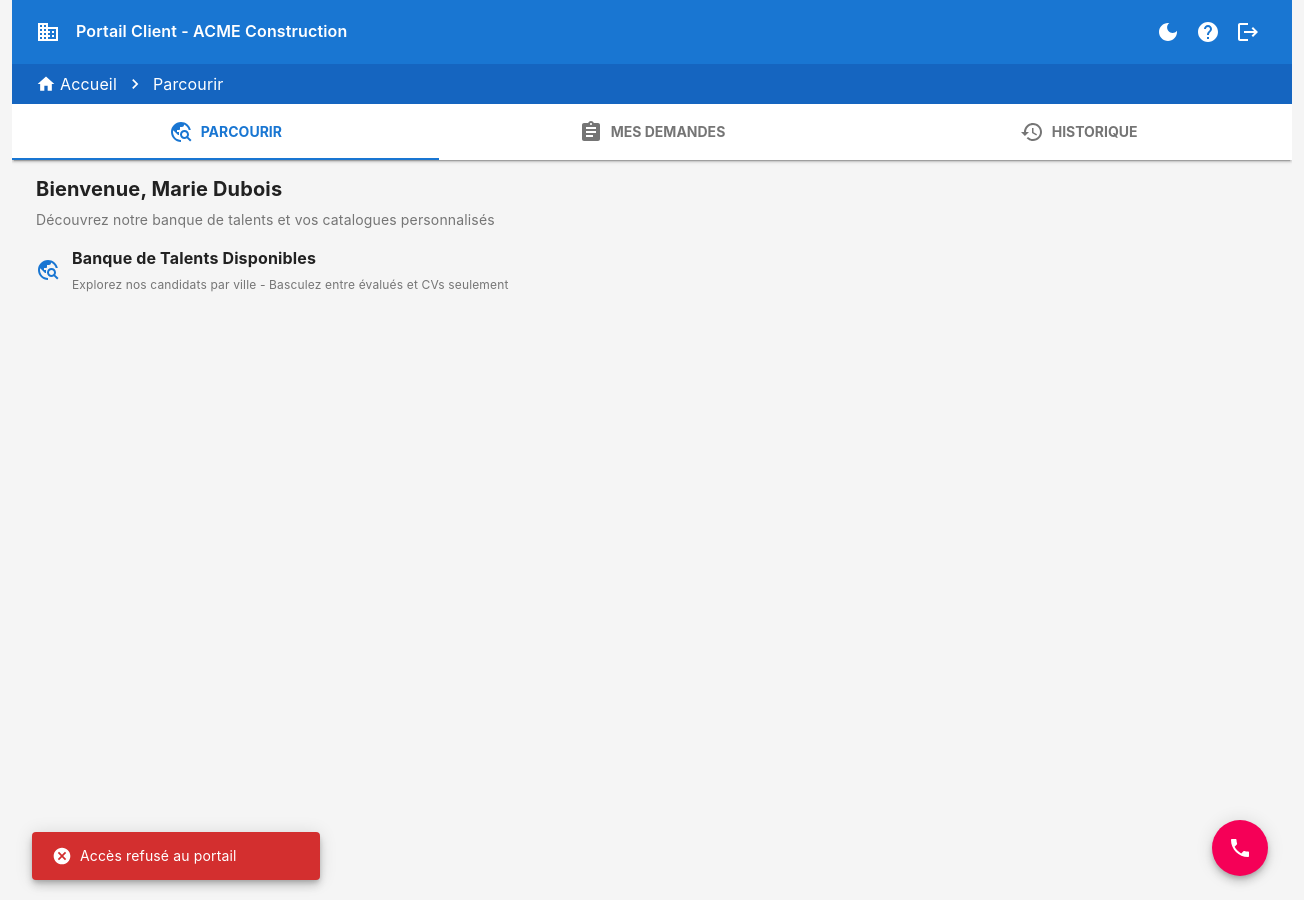
Test case: ClientDashboardPage › affiche un message d'erreur quand le chargement des catalogues échoue
Click the tab "Mes Demandes": point(652, 132) [439, 104, 865, 160]
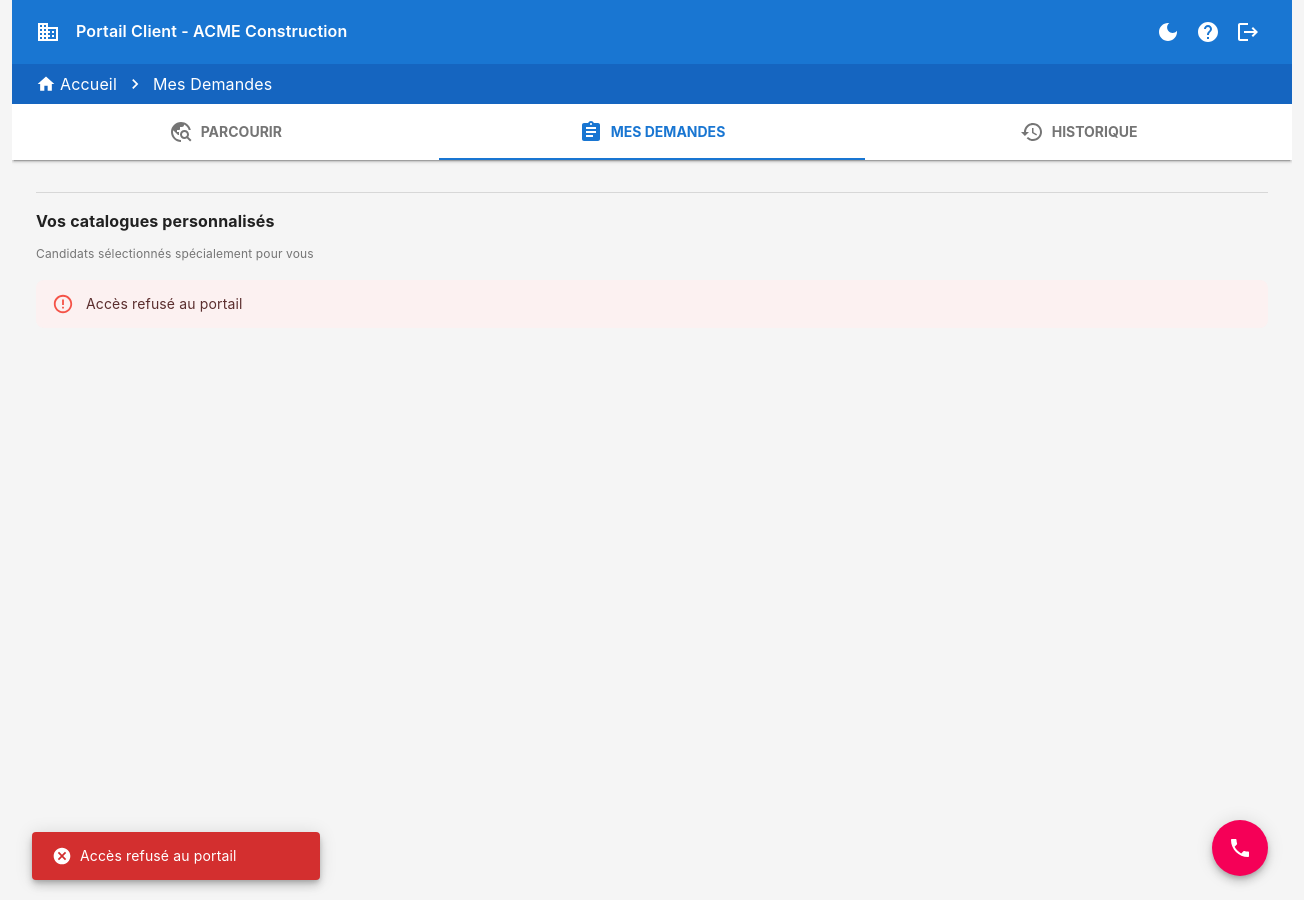
Now the text "Accès refusé au portail" is shown, box [86, 295, 243, 312]
